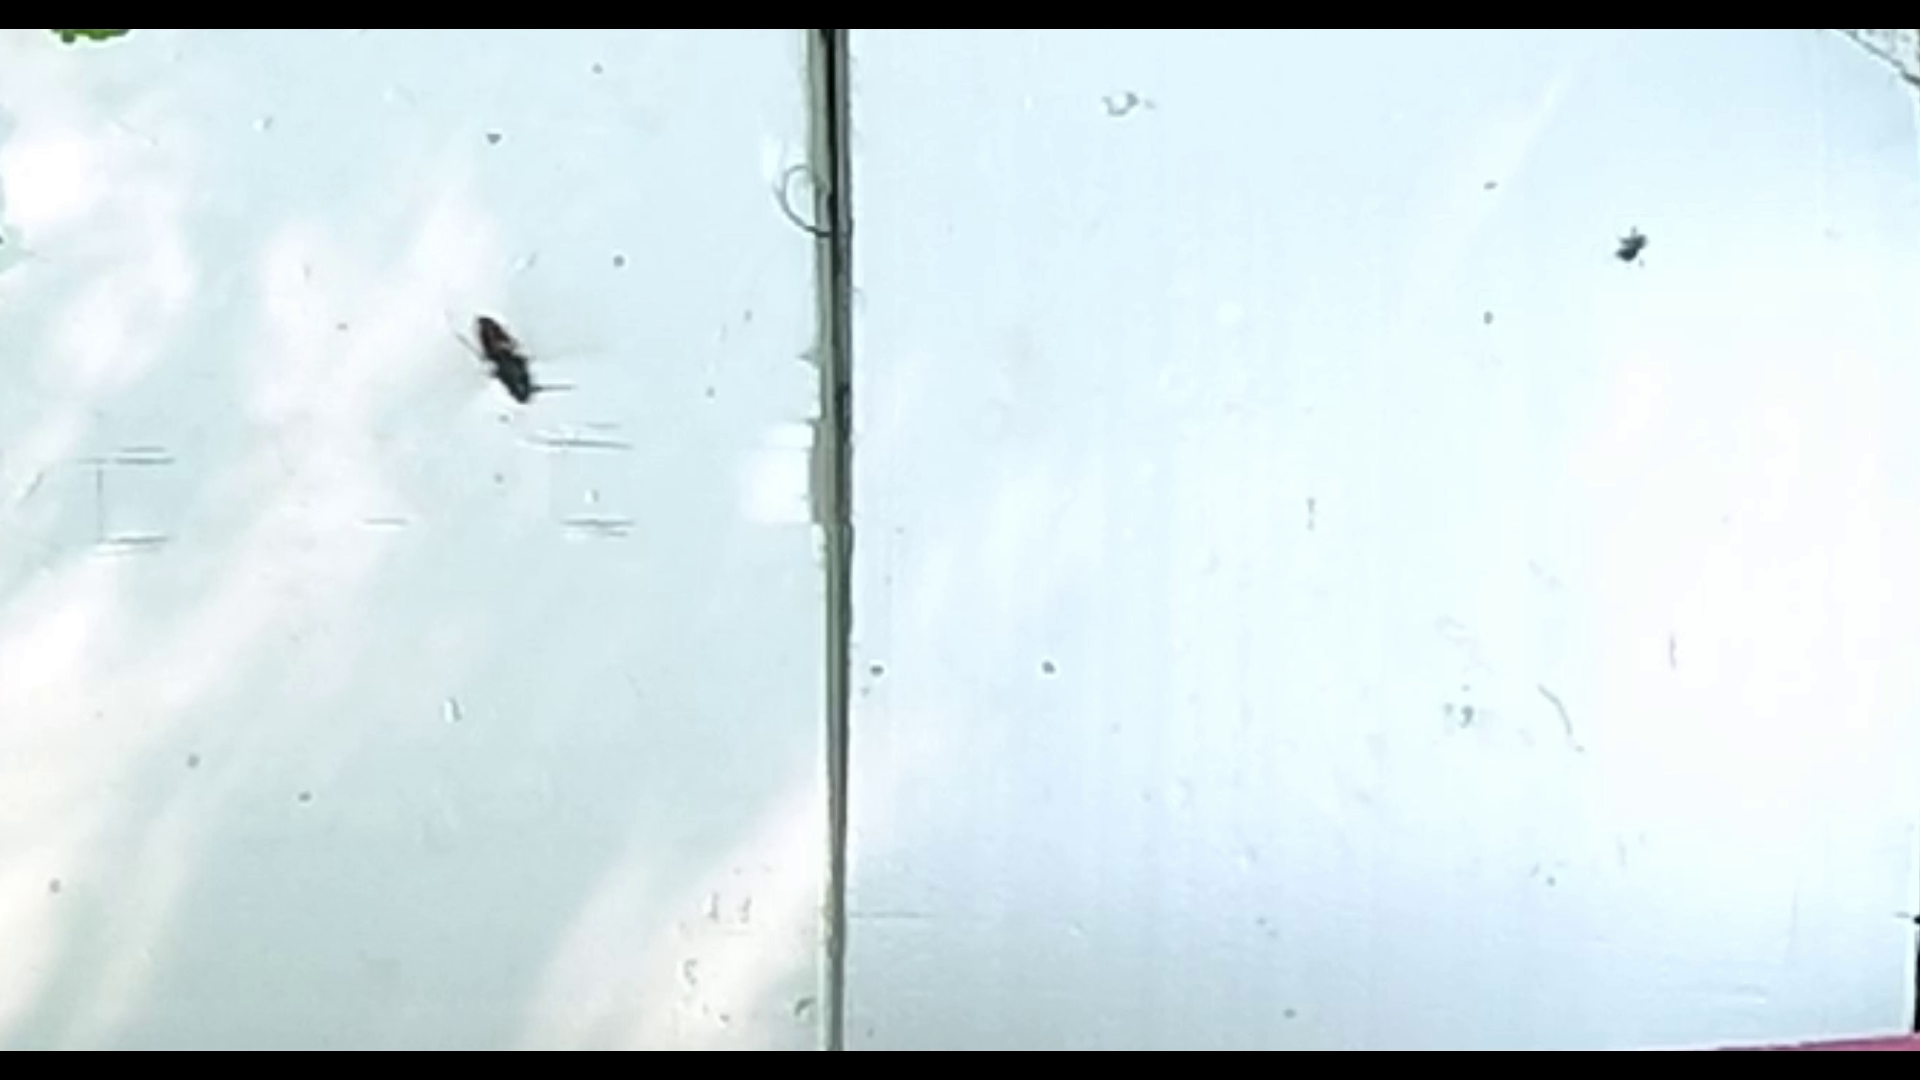Asian_hornets: (435, 297, 589, 422)
